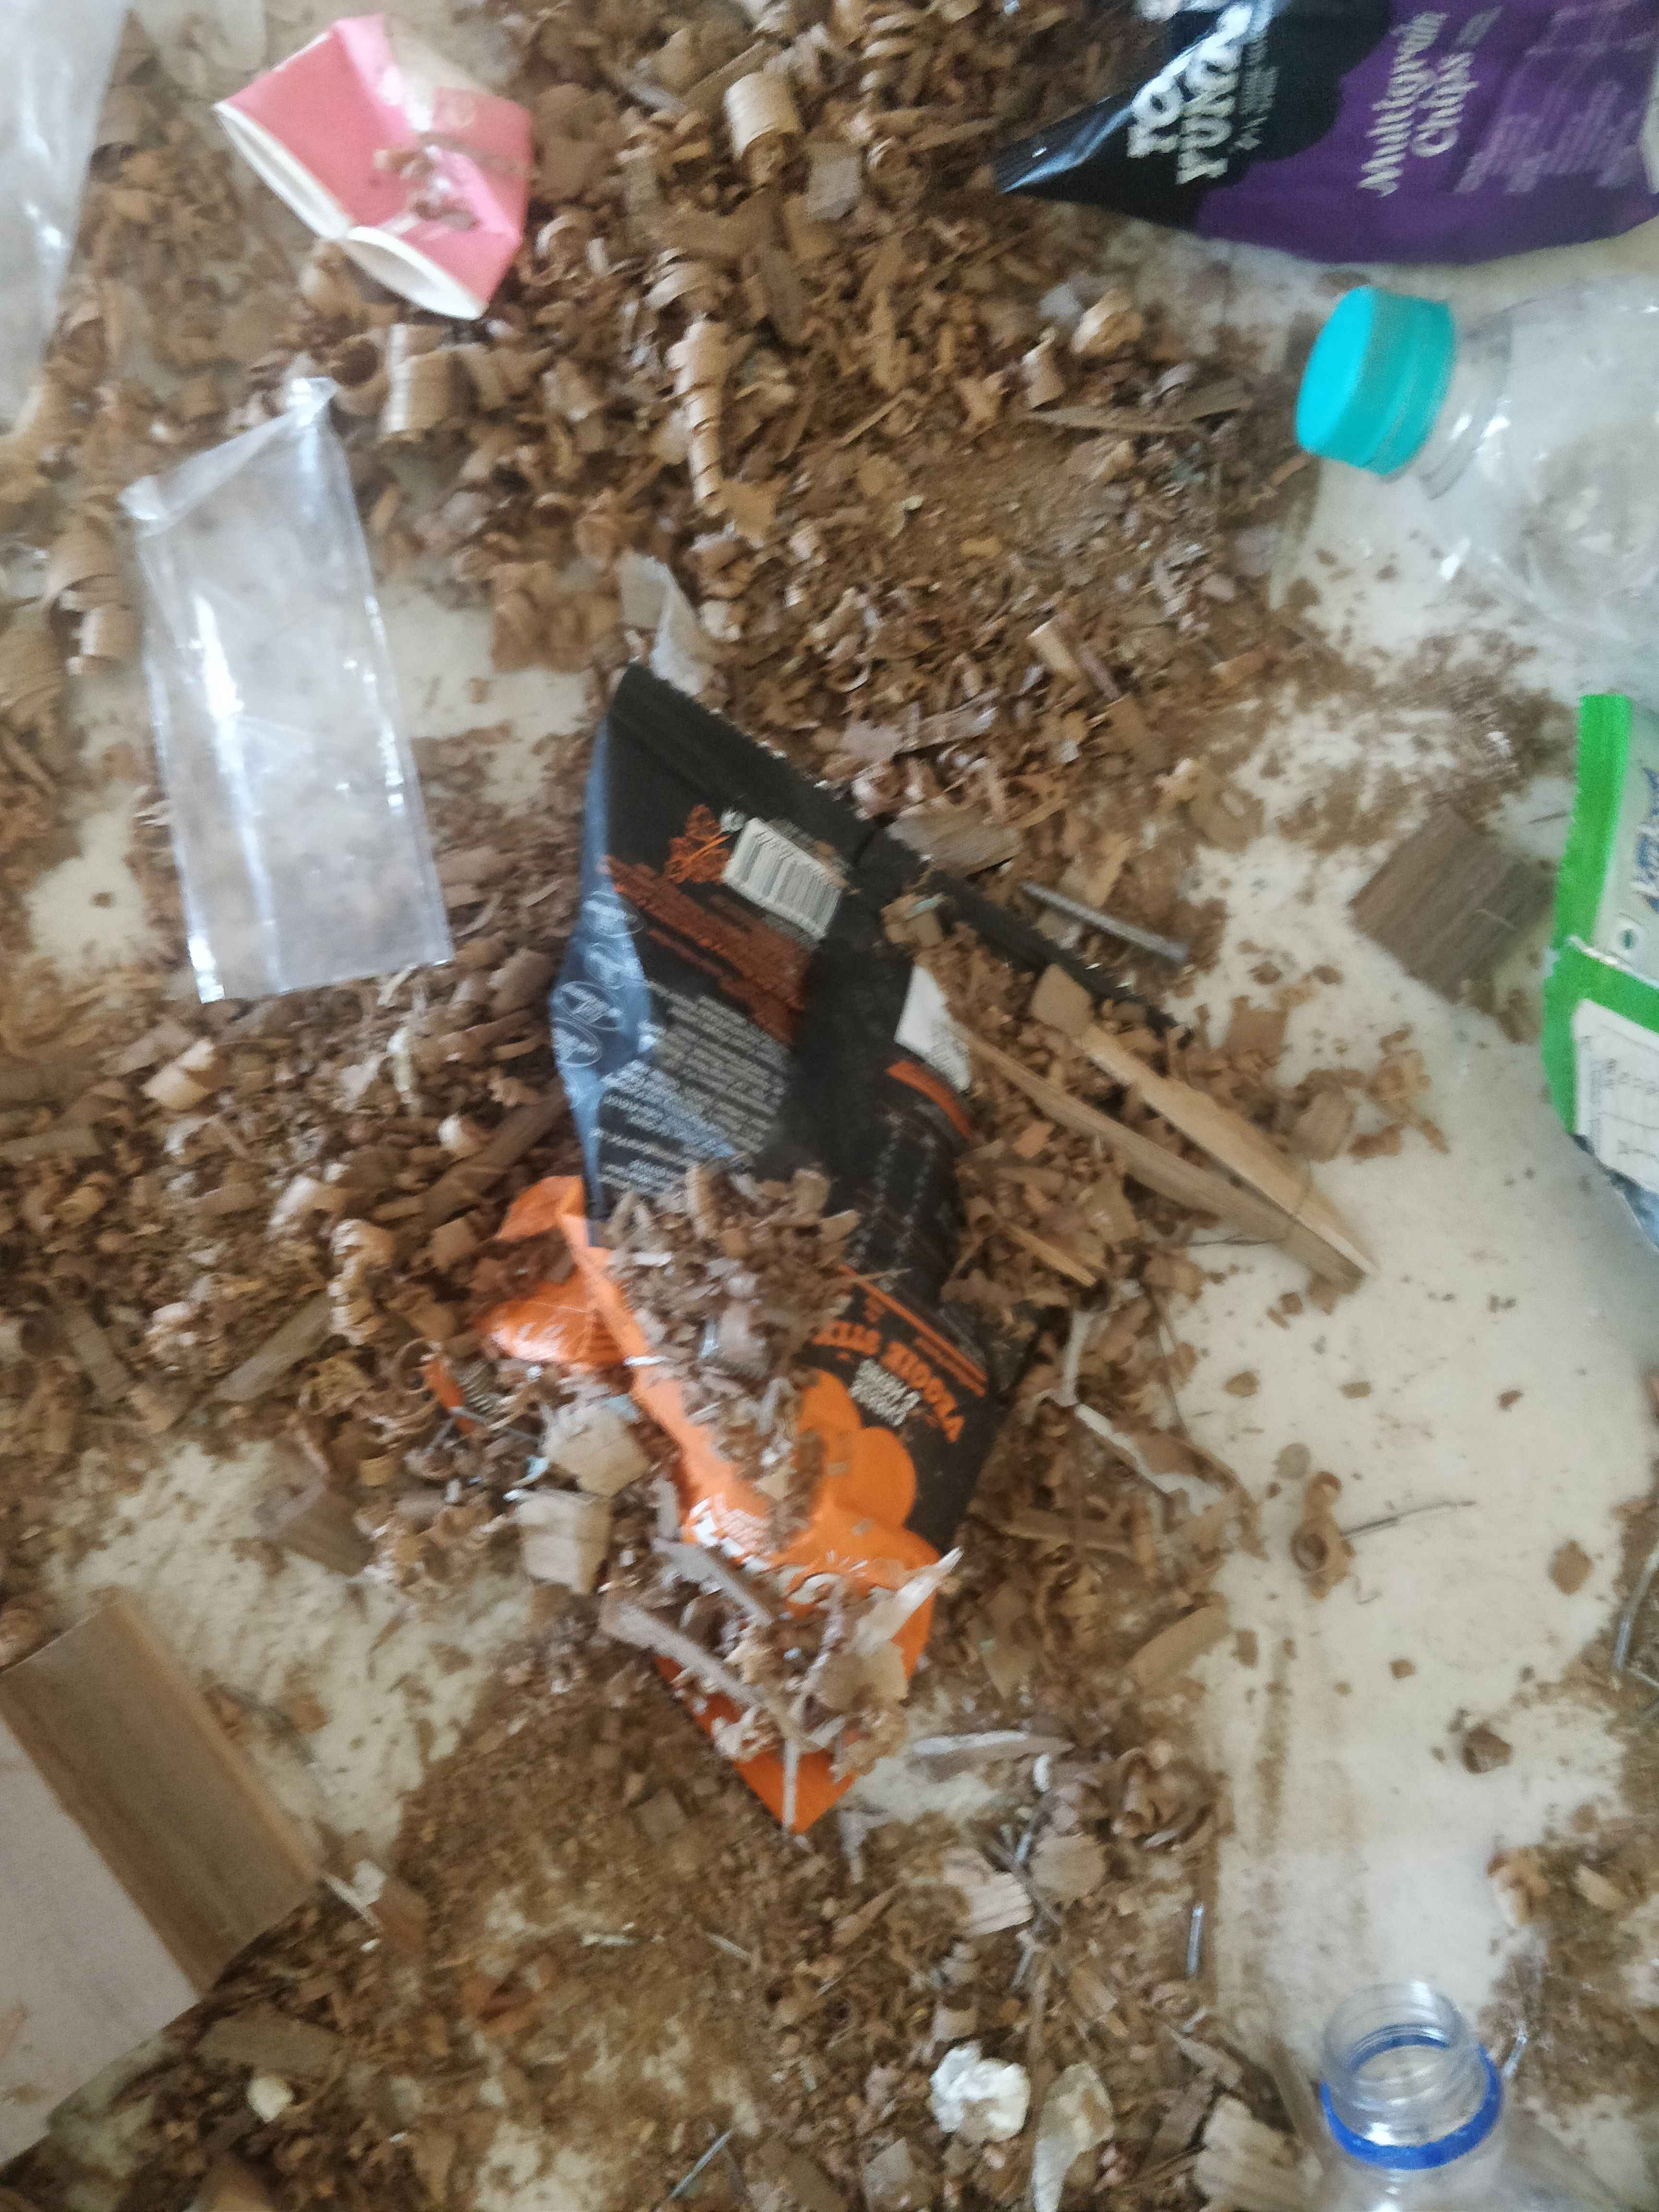kurkure: (1628, 784, 1659, 925)
tooyumm: (667, 1498, 911, 1649), (1114, 0, 1293, 199)
